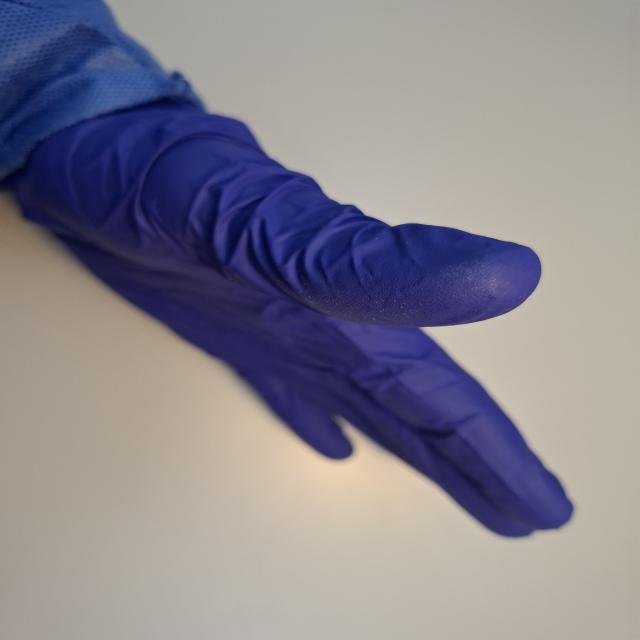glove_on: (10, 90, 578, 542)
